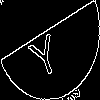Y: (25, 24, 62, 80)
